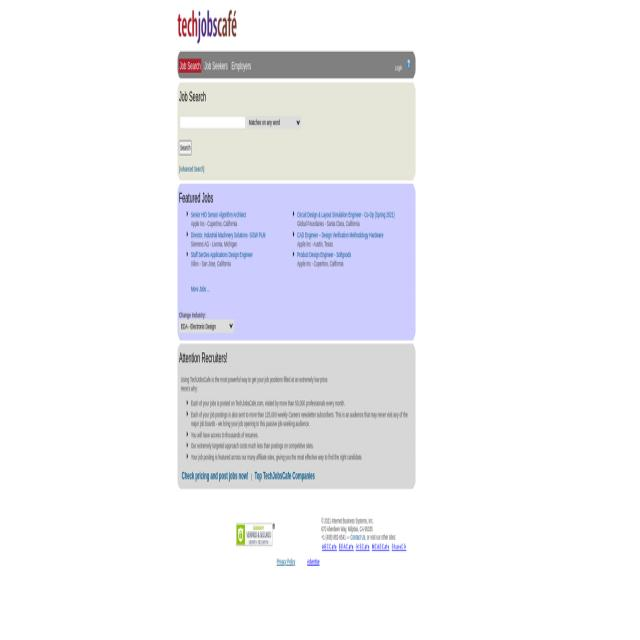button: (177, 3, 237, 43), (236, 522, 275, 544), (204, 58, 228, 72), (179, 58, 201, 72), (230, 58, 252, 72), (179, 140, 191, 154), (406, 57, 412, 69)
field: (180, 115, 245, 128), (179, 319, 235, 332), (247, 115, 301, 128)
